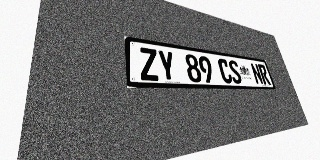8: (184, 53, 203, 82)
9: (197, 55, 215, 83)
C: (217, 58, 233, 83)
N: (250, 63, 264, 85)
R: (257, 64, 271, 85)
S: (227, 60, 243, 84)
Y: (157, 50, 177, 82)
Z: (138, 47, 160, 81)
